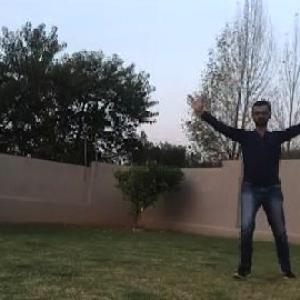takeoff: (182, 102, 299, 270)
